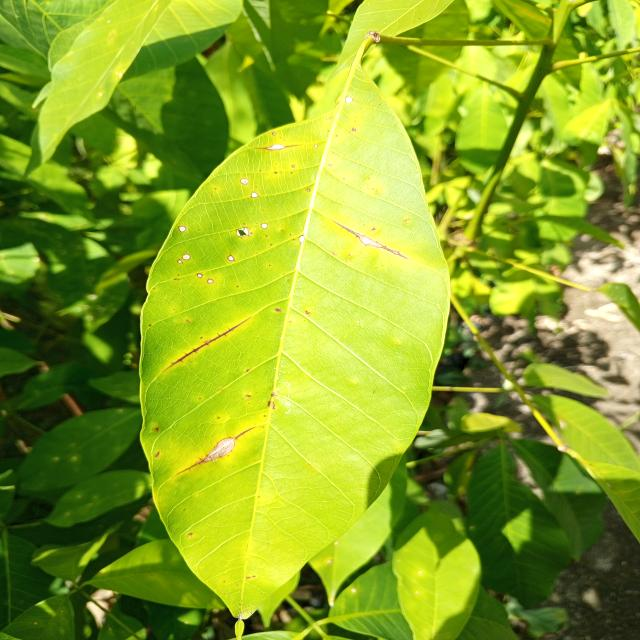Colletotrichum: (240, 178, 249, 184), (251, 192, 259, 198), (178, 226, 186, 232), (182, 254, 190, 260), (227, 255, 235, 261), (260, 223, 268, 229), (345, 97, 353, 103), (207, 278, 214, 284), (299, 235, 304, 243), (177, 259, 183, 264), (197, 273, 203, 278), (272, 132, 276, 136), (314, 145, 318, 148), (306, 189, 310, 191), (289, 320, 292, 322), (292, 165, 294, 168), (250, 232, 252, 235), (215, 446, 218, 448), (343, 178, 345, 180), (275, 172, 277, 174), (260, 170, 261, 172)
Corynespora: (164, 316, 251, 372), (176, 426, 256, 475), (331, 220, 413, 260), (256, 143, 300, 151)
